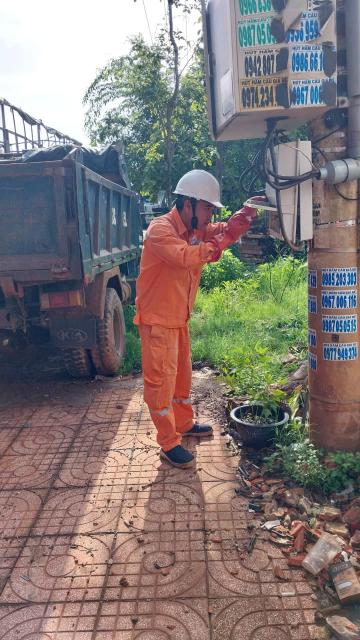gloves: (227, 189, 279, 235), (213, 213, 253, 255)
helmet: (164, 164, 234, 213)
shoes: (152, 429, 198, 472), (172, 408, 214, 441)
